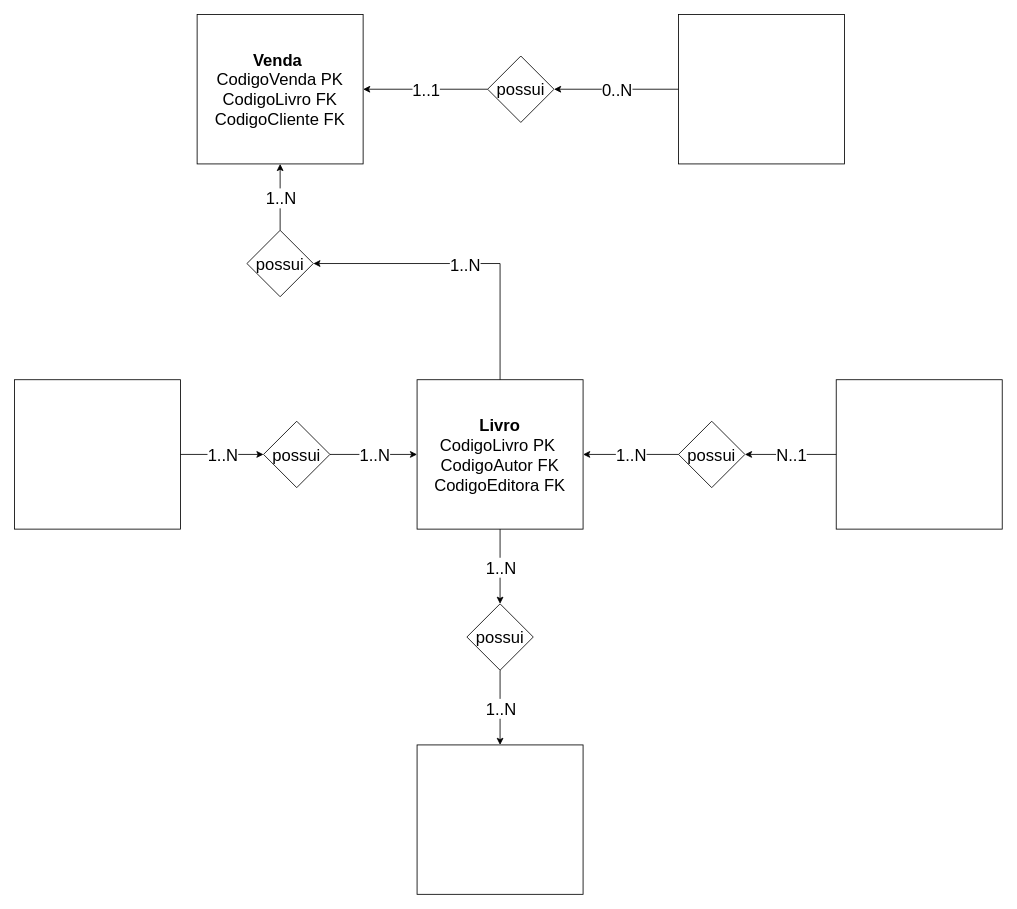
The diagram is 1017 pixels wide and 909 high, and some of its shapes have lost their labels. The centre of each missing label's shape, as x and y in pixels:
"Autores CodigoAutor PK" goes at (x=97, y=454).
"Clientes CodigoCliente PK" goes at (x=761, y=89).
"Editoras CodigoEditora PK" goes at (x=918, y=454).
"Estoque CodigoLivro PK (FK que vira PK)" goes at (x=499, y=819).
